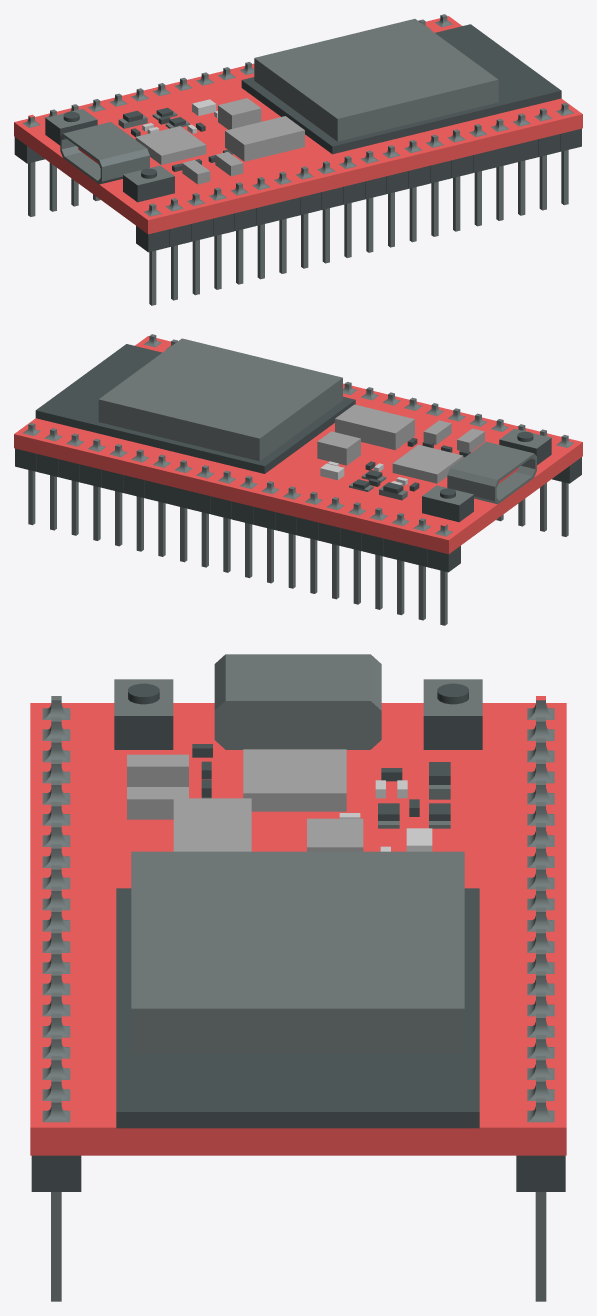
File: ESP.glb
3 views of the same model, one above another, from view 1: azimuth 30°, elevation 25°; view 2: azimuth 150°, elevation 25°; view 3: azimuth 270°, elevation 25° (orthographic). The views are drawn at different scales.
Visible parts, largest first — view 1: esp, teamColor; view 2: esp, teamColor; view 3: esp, teamColor.
Part boxes in pixels (left/top/right/bottom): esp: left=14, top=14, right=581, bottom=305; teamColor: left=14, top=16, right=582, bottom=234; esp: left=15, top=334, right=581, bottom=625; teamColor: left=14, top=336, right=582, bottom=554; esp: left=31, top=654, right=565, bottom=1301; teamColor: left=30, top=696, right=566, bottom=1155.
Bounding box in the file's own units: 0.0484 × 0.013 × 0.0258.
2 materials, 1 textured.
